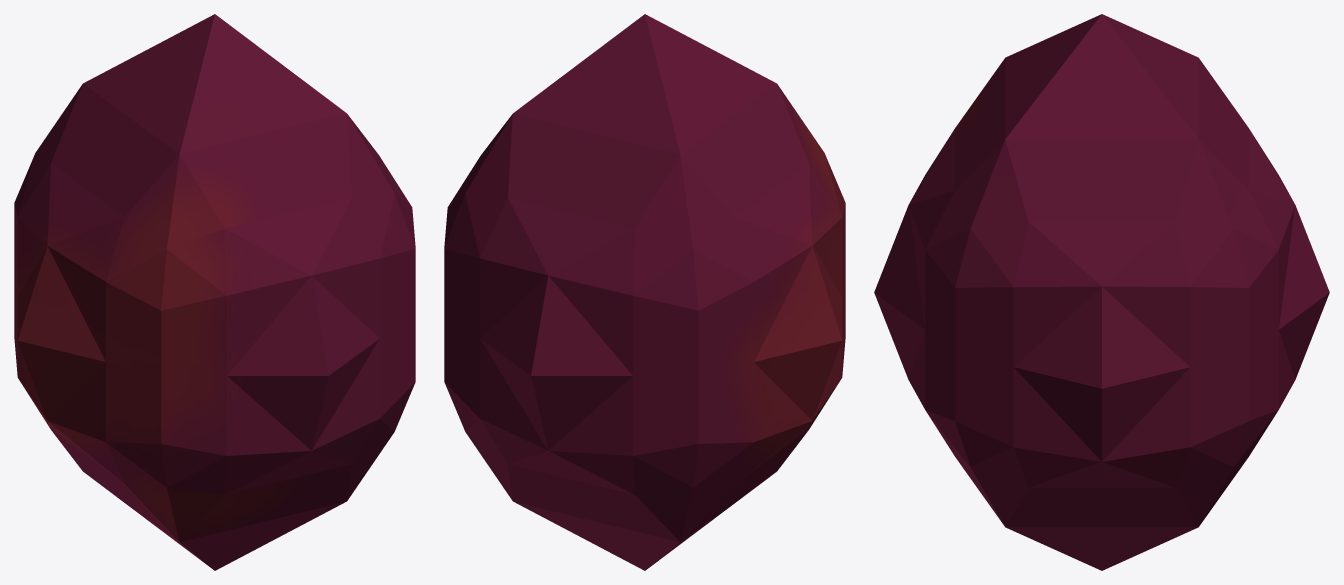
The model's file is EnemySpawner.obj.
The picture shows the model from 3 angles, left to right: view 1: azimuth 30°, elevation 25°; view 2: azimuth 150°, elevation 25°; view 3: azimuth 270°, elevation 25°; orthographic projection.
Visible parts, largest first — view 1: Spawner; view 2: Spawner; view 3: Spawner.
Part boxes in pixels (<box>): Spawner: <box>14,14,415,570</box>; Spawner: <box>444,14,845,570</box>; Spawner: <box>874,14,1329,570</box>.
Size of the model in its own units: 2.36 by 3.18 by 2.36.
